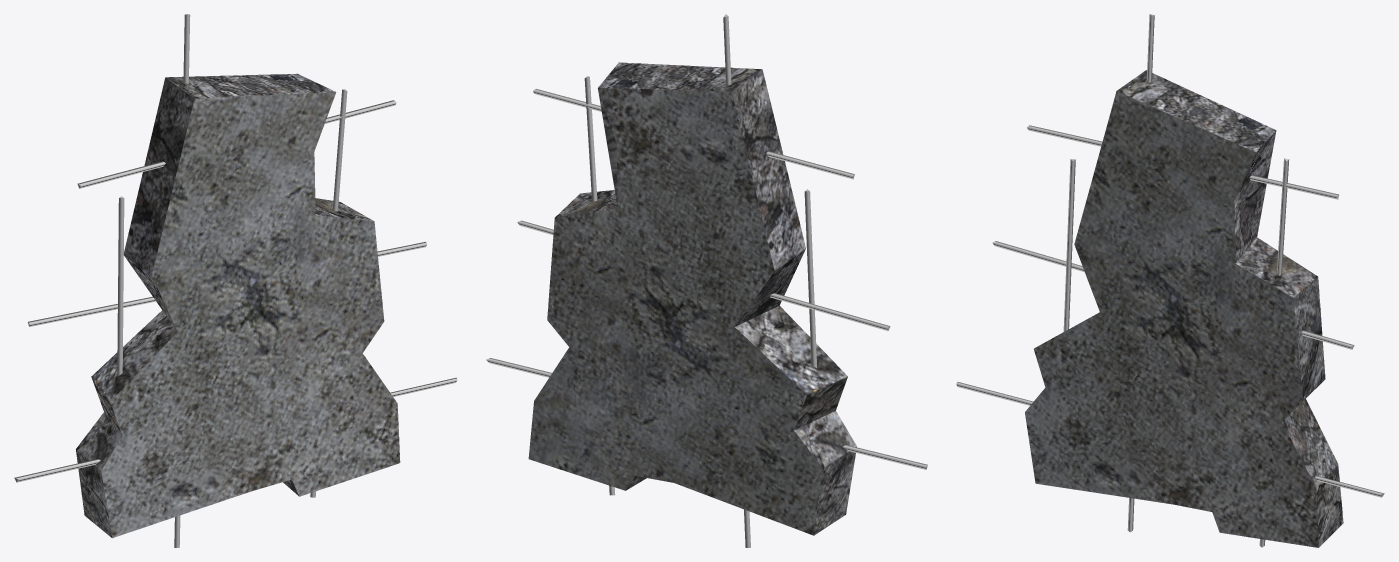
The model's file is suishi2.FBX.
The picture shows the model from 3 angles, left to right: view 1: azimuth 30°, elevation 25°; view 2: azimuth 150°, elevation 25°; view 3: azimuth 330°, elevation 25°; orthographic projection. The views are drawn at different scales.
Parts seen in each view (by area): view 1: qiangti, shitou, polySurface1350; view 2: qiangti, shitou, polySurface1350; view 3: qiangti, shitou, polySurface1350.
Boxes of the visible parts, <box> form: qiangti: <box>101,92,400,538</box>; shitou: <box>76,73,373,537</box>; polySurface1350: <box>14,14,457,547</box>; qiangti: <box>528,88,822,535</box>; shitou: <box>555,62,856,535</box>; polySurface1350: <box>486,14,927,547</box>; qiangti: <box>1025,91,1318,547</box>; shitou: <box>1117,70,1343,547</box>; polySurface1350: <box>956,14,1384,547</box>.
Bounding box in the file's own units: 3.06 × 3.5 × 0.3599.
